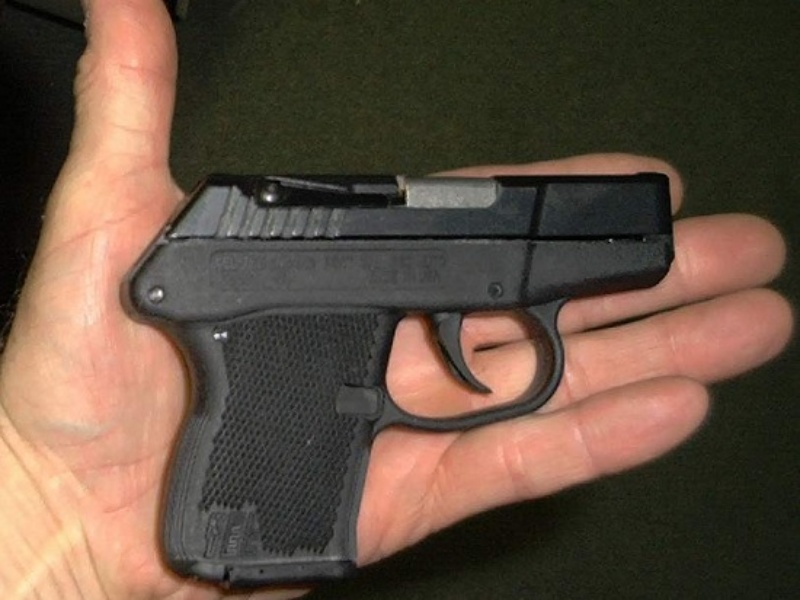gun: (143, 156, 683, 563)
